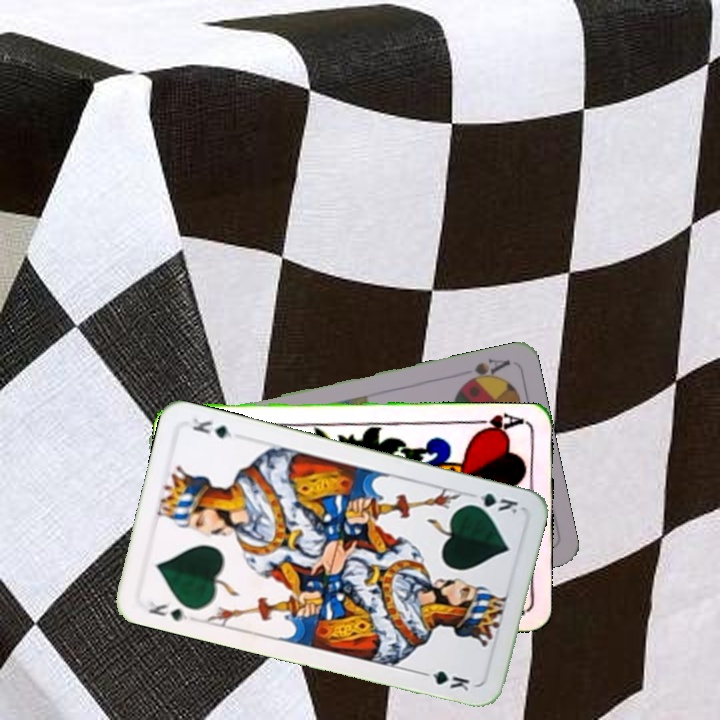GK: (463, 489, 520, 517), (141, 595, 193, 624)
HA: (468, 410, 526, 437)
SA: (457, 354, 513, 388)
